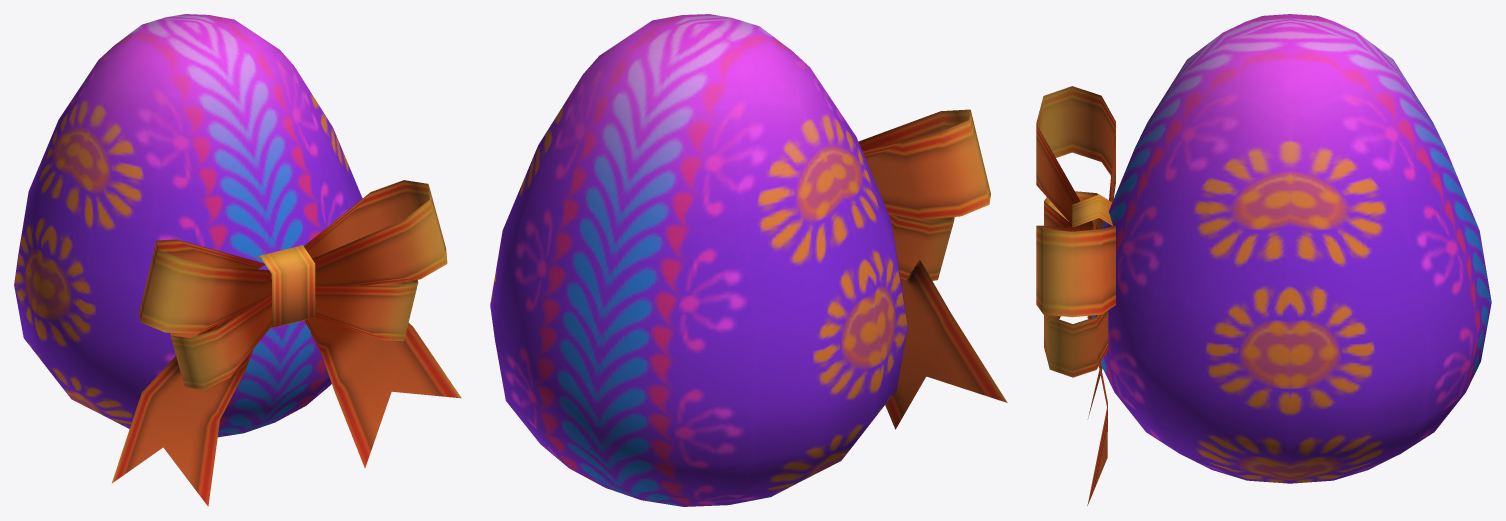
The model's file is Egg_02(HighPoly).FBX.
3 views of the same model, side by side, from view 1: azimuth 30°, elevation 25°; view 2: azimuth 150°, elevation 25°; view 3: azimuth 270°, elevation 25° (orthographic). The views are drawn at different scales.
Parts seen in each view (by area): view 1: Egg_02(HighPoly); view 2: Egg_02(HighPoly); view 3: Egg_02(HighPoly).
Boxes of the visible parts, x1=… form: Egg_02(HighPoly): x1=14, y1=14, x2=461, y2=506; Egg_02(HighPoly): x1=490, y1=14, x2=1007, y2=506; Egg_02(HighPoly): x1=1036, y1=14, x2=1491, y2=505.
Bounding box in the file's own units: 0.5564 × 0.6031 × 0.5665.
